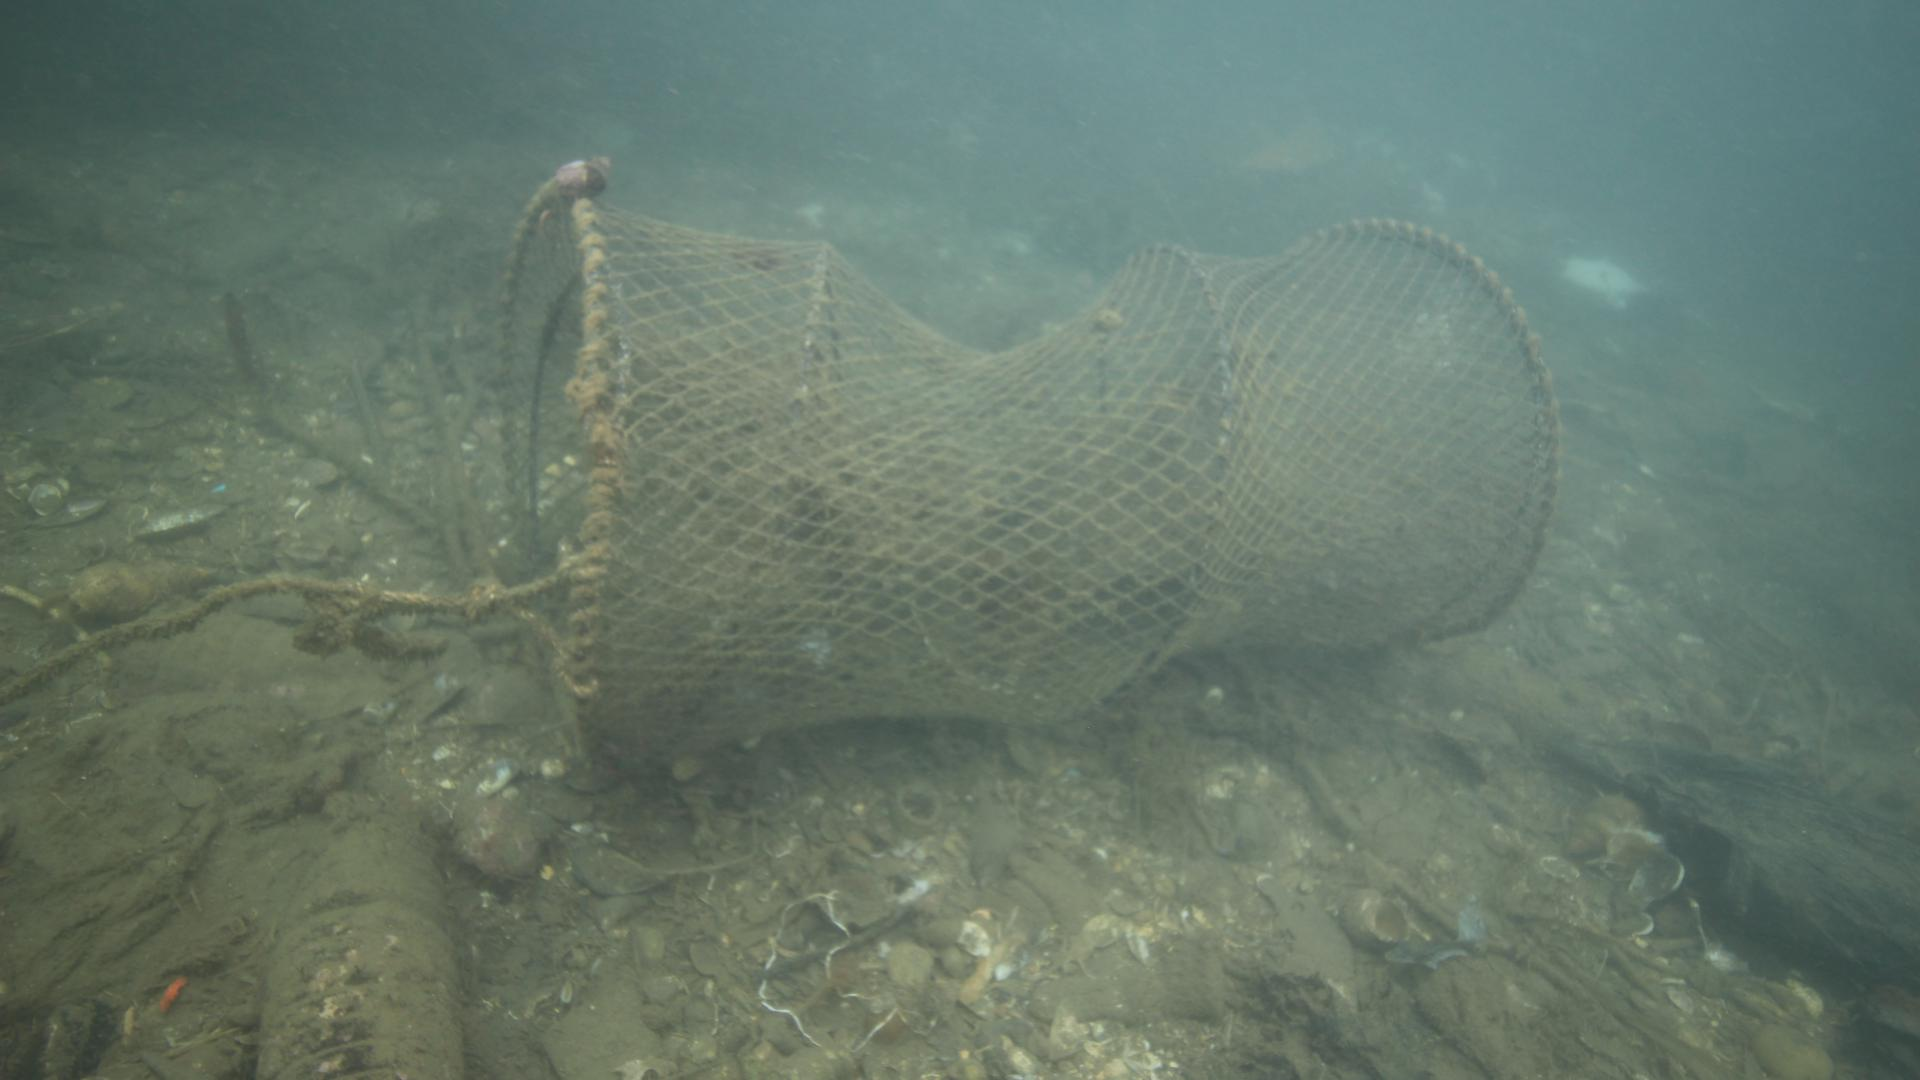rope: (0, 558, 564, 709)
spring fish trap: (495, 177, 1560, 771)
